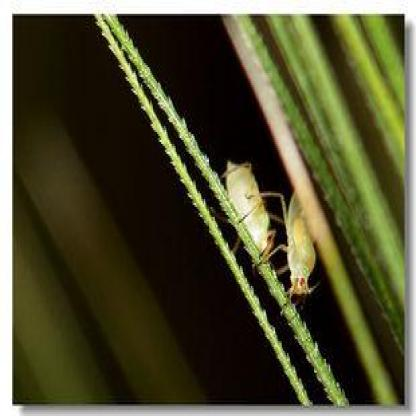aphid: (266, 170, 331, 308), (220, 148, 282, 270)
